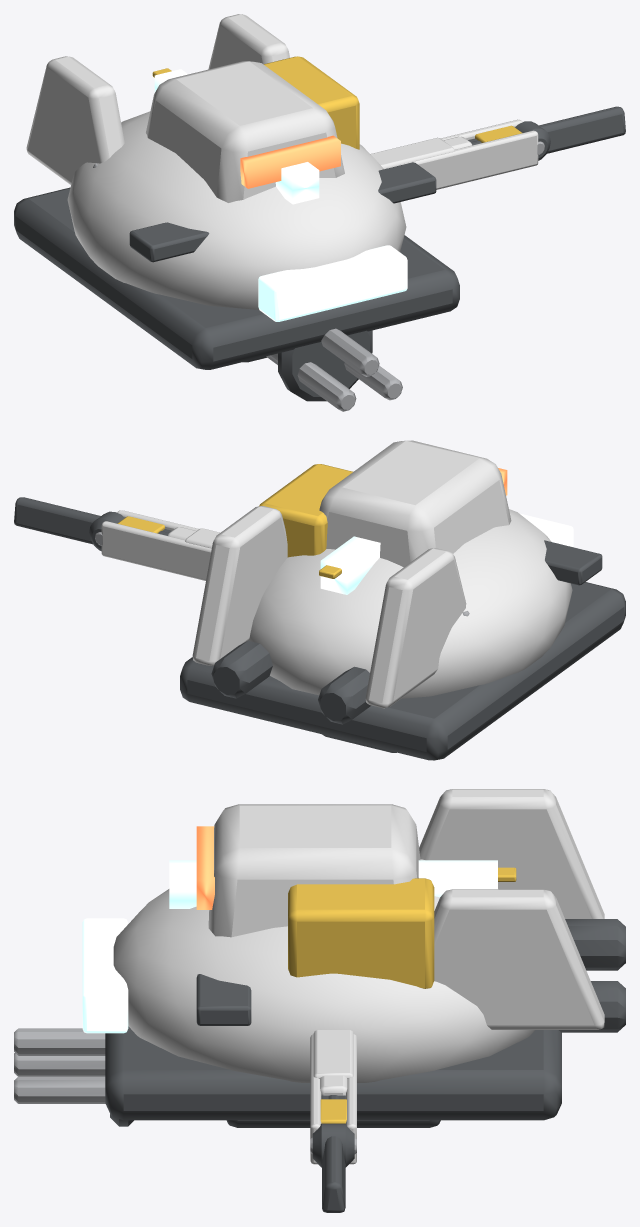
File: burst.glb
The picture shows the model from 3 angles, top to bottom: view 1: azimuth 30°, elevation 25°; view 2: azimuth 150°, elevation 25°; view 3: azimuth 270°, elevation 25°; orthographic projection. The views are drawn at different scales.
Parts seen in each view (by area): view 1: Hull, Turret, Barrel, LegUpper, LegLower; view 2: Hull, Turret, LegUpper, LegLower; view 3: Hull, Turret, Barrel, LegUpper, LegLower.
Boxes of the visible parts, <box> form: Hull: <box>14,14,459,369</box>; Turret: <box>146,56,359,202</box>; Barrel: <box>243,328,402,411</box>; LegUpper: <box>370,119,550,189</box>; LegLower: <box>443,106,625,153</box>; Hull: <box>180,506,625,760</box>; Turret: <box>259,440,511,567</box>; LegUpper: <box>89,510,219,580</box>; LegLower: <box>14,497,196,544</box>; Hull: <box>82,789,625,1120</box>; Turret: <box>196,804,434,988</box>; Barrel: <box>14,1028,440,1127</box>; LegUpper: <box>310,1030,356,1167</box>; LegLower: <box>320,1075,347,1212</box>.
Size of the model in its own units: 0.795 by 0.355 by 0.67.
